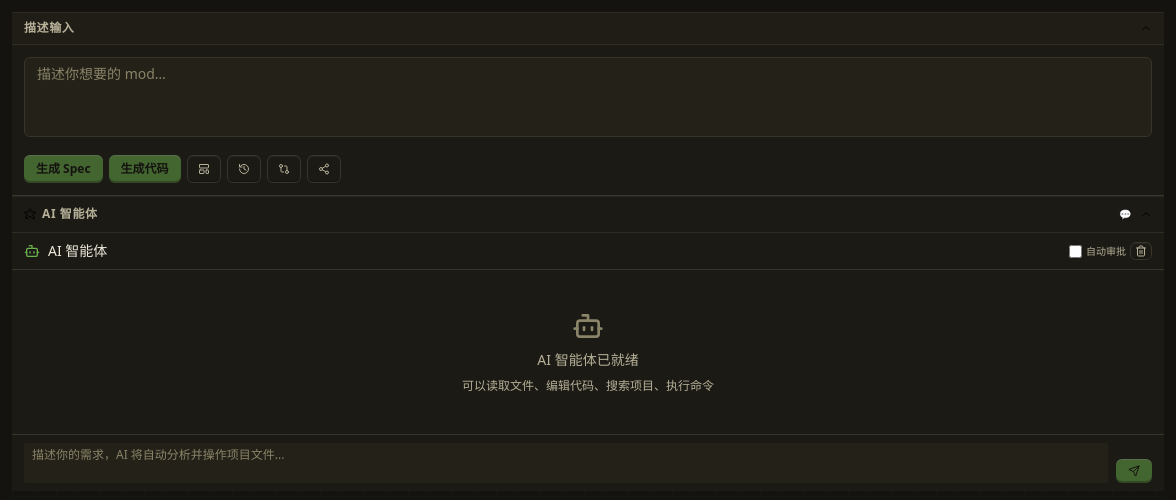
Test case: AgentPanel › 输入描述后「生成 Spec」按钮启用
This screenshot has width=1176, height=500.
Type "一个测试 mod" into the text box with placeholder "描述你想要的 mod…" at [588, 97], box [24,57,1152,137]
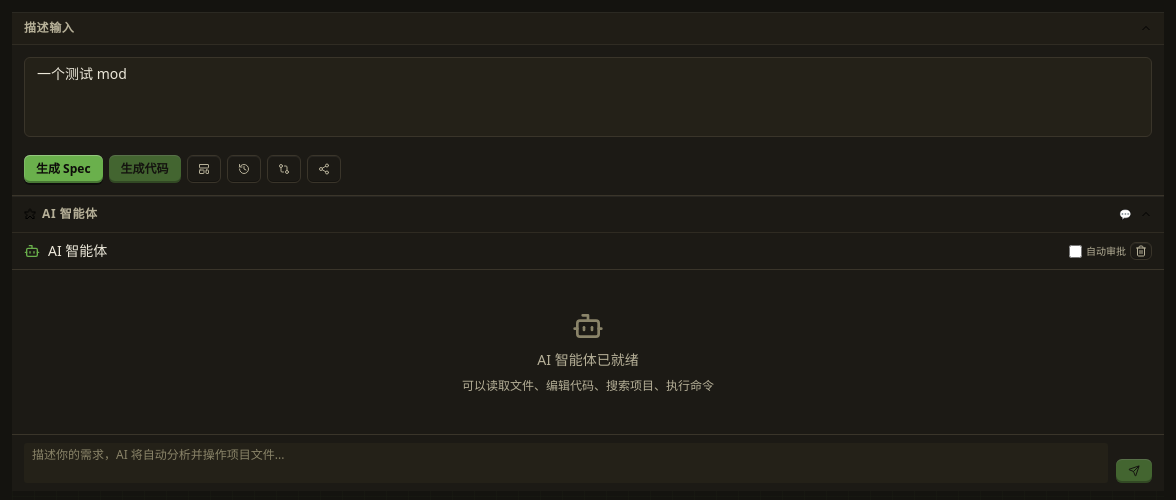
Result: the button "生成 Spec" is enabled at [24,155,103,183]
